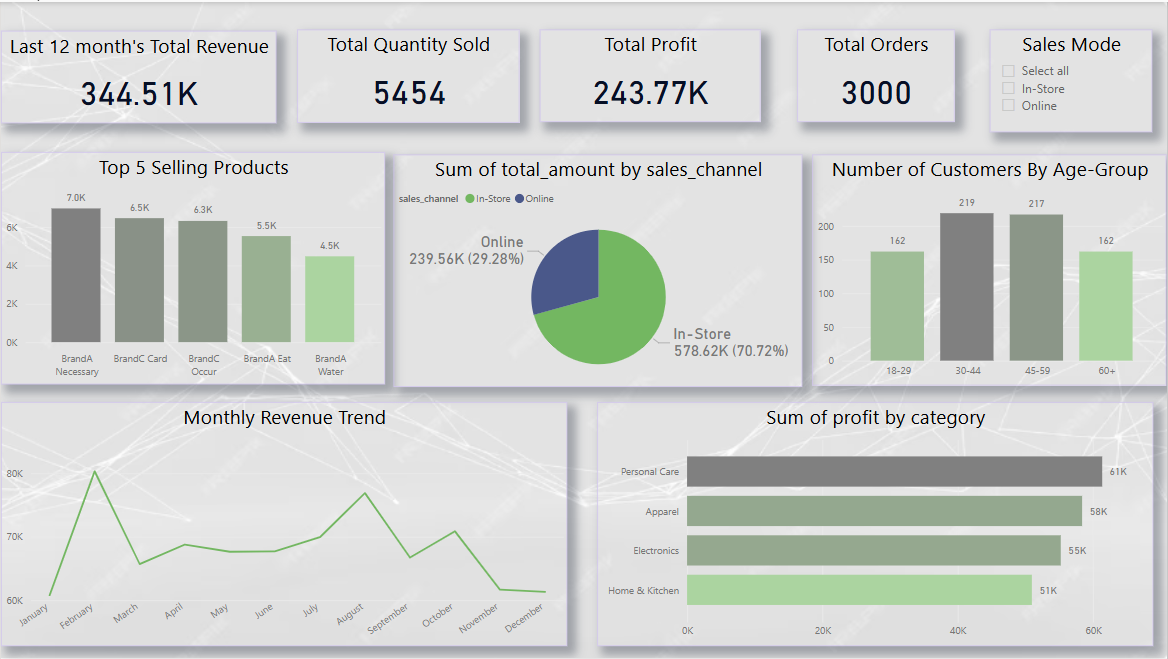

What the dashboard file says about the page in this screenshot:
{"tool":"powerbi","page":{"name":"2","canvas":[1280,720],"ordinal":1},"visuals":[{"type":"card","title":"Last 12 month''s Total Revenue","fields":{"Values":["Sum(Sales_data.total_amount)"]},"box":[0,31.4,302.2,101.2],"z":0},{"type":"card","title":"Total Quantity Sold","fields":{"Values":["Sum(Sales_data.quantity)"]},"box":[325,29.9,243.7,102.6],"z":1000},{"type":"card","title":"Total Profit","fields":{"Values":["Sum(Sales_data.profit)"]},"box":[591.5,29.9,242.3,101.2],"z":2000},{"type":"columnChart","title":"Top 5 Selling Products","fields":{"Y":["Sum(Sales_data.total_amount)"],"Category":["Products.product_name"]},"box":[0,165.3,421.9,255.1],"z":3000},{"type":"pieChart","fields":{"Y":["Sum(Sales_data.total_amount)"],"Category":["Sales_data.sales_channel"]},"box":[430.5,166.8,449,255.1],"z":4000},{"type":"lineChart","title":"Monthly Revenue Trend","fields":{"Category":["Sales_data.order_date.Variation.Date Hierarchy.Month"],"Y":["Sum(Sales_data.total_amount)"]},"box":[0,439,621.5,268],"z":5000},{"type":"slicer","title":"Sales Mode","fields":{"Values":["Sales_data.sales_channel"]},"box":[1085.4,30.2,178.4,112.5],"z":6000},{"type":"card","title":"Total Orders","fields":{"Values":["CountNonNull(Sales_data.order_id)"]},"box":[873.8,29.9,172.5,101.2],"z":7000},{"type":"clusteredBarChart","fields":{"Category":["Products.category"],"Y":["Sum(Sales_data.profit)"]},"box":[654.3,439,610.1,268],"z":8000},{"type":"columnChart","title":"Number of Customers By Age-Group","fields":{"Y":["CountNonNull(Customer.customer_id)"],"Category":["Customer.Age_Group"]},"box":[890.9,166.8,389.1,253.7],"z":9000}]}

Visuals, with their boxes in screenshot pixels (x1, y1, x2, y2), scaled from the page's 1280x720 canvas onto the 1168x659 screenshot:
"Last 12 month''s Total Revenue" card: (x1=0, y1=29, x2=276, y2=121)
"Total Quantity Sold" card: (x1=297, y1=27, x2=519, y2=121)
"Total Profit" card: (x1=540, y1=27, x2=761, y2=120)
"Top 5 Selling Products" columnChart: (x1=0, y1=151, x2=385, y2=385)
pieChart - Sum(Sales_data.total_amount) x Sales_data.sales_channel: (x1=393, y1=153, x2=803, y2=386)
"Monthly Revenue Trend" lineChart: (x1=0, y1=402, x2=567, y2=647)
"Sales Mode" slicer: (x1=990, y1=28, x2=1153, y2=131)
"Total Orders" card: (x1=797, y1=27, x2=955, y2=120)
clusteredBarChart - Products.category x Sum(Sales_data.profit): (x1=597, y1=402, x2=1154, y2=647)
"Number of Customers By Age-Group" columnChart: (x1=813, y1=153, x2=1167, y2=385)
